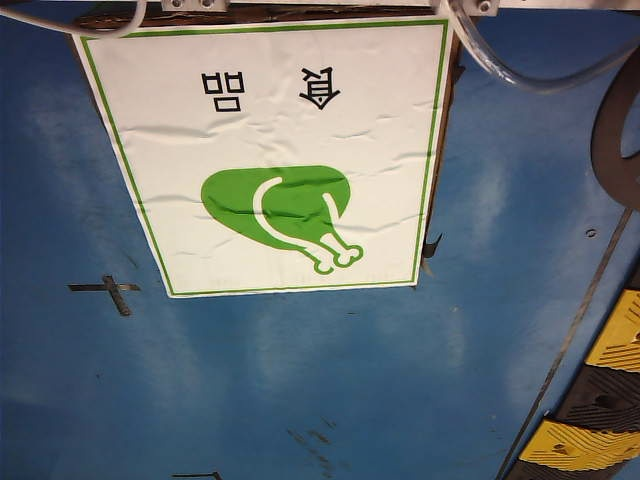Cube_food: (172, 54, 387, 284)
